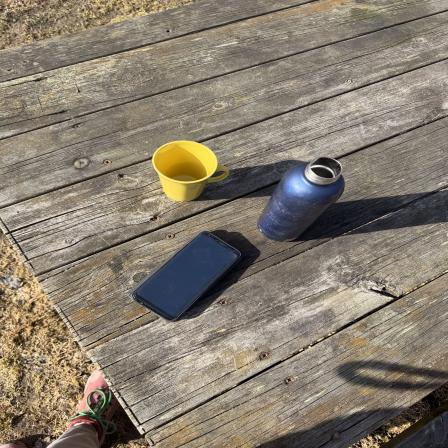blue_bottle: (244, 140, 352, 246)
phone: (116, 219, 246, 322)
yellow_cup: (131, 139, 235, 205)
